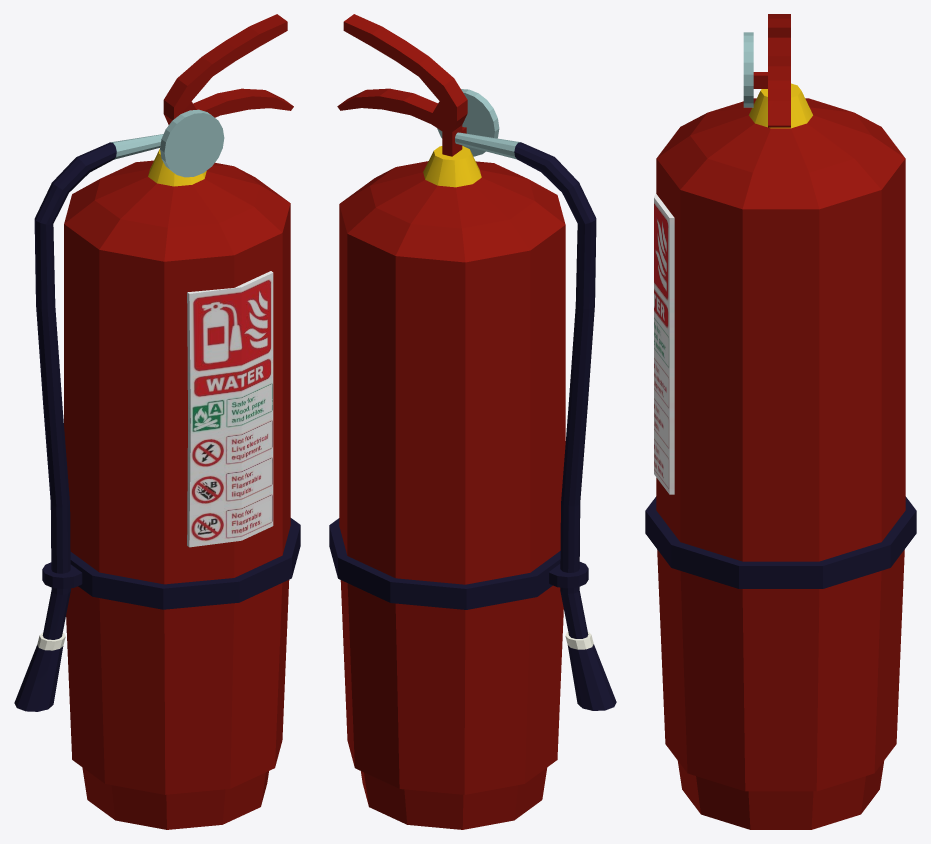
The model's file is Prop_FireExtinguisher_A.fbx.
3 views of the same model, side by side, from view 1: azimuth 30°, elevation 25°; view 2: azimuth 150°, elevation 25°; view 3: azimuth 270°, elevation 25° (orthographic). The views are drawn at different scales.
Parts seen in each view (by area): view 1: Prop_FireExtinguisher_A; view 2: Prop_FireExtinguisher_A; view 3: Prop_FireExtinguisher_A.
Boxes of the visible parts, x1,y1,x2,y2 form: Prop_FireExtinguisher_A: (14, 14, 300, 829); Prop_FireExtinguisher_A: (329, 14, 616, 829); Prop_FireExtinguisher_A: (645, 14, 916, 829).
Bounding box in the file's own units: 24.41 × 30.88 × 81.21.
